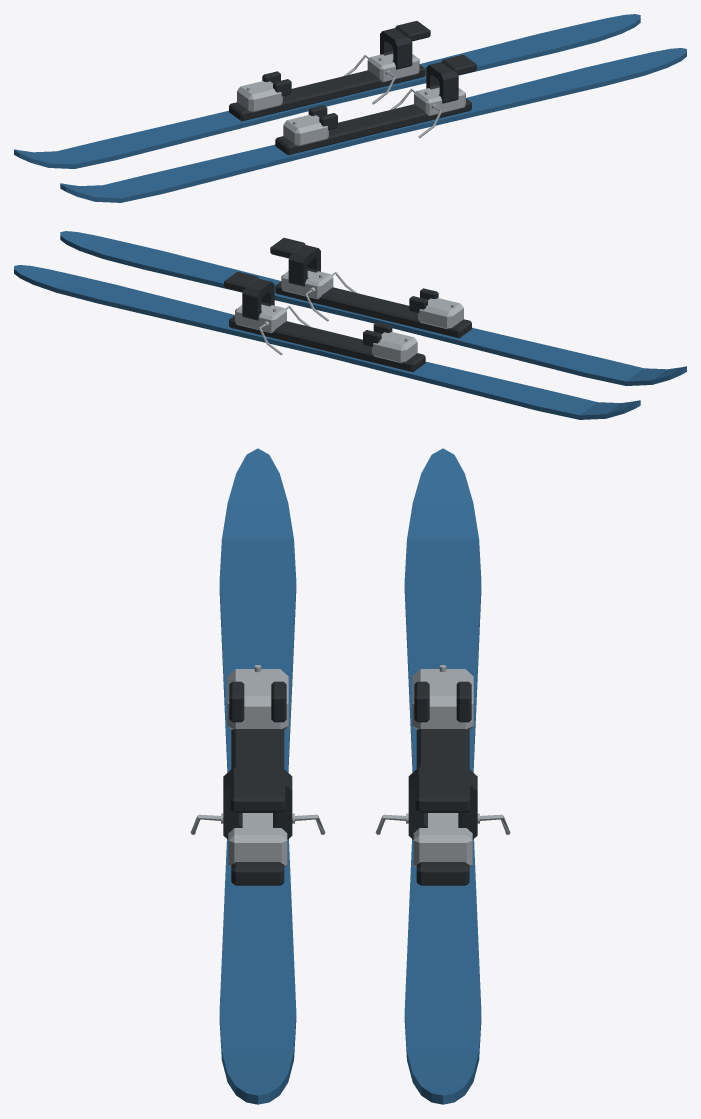
Rendered from full.glb.
The picture shows the model from 3 angles, top to bottom: view 1: azimuth 30°, elevation 25°; view 2: azimuth 150°, elevation 25°; view 3: azimuth 270°, elevation 25°; orthographic projection. The views are drawn at different scales.
Parts seen in each view (by area): view 1: Waisted downhill ski 0, Waisted downhill ski 1, Long mounting plate 1, Long mounting plate 0, Toe housing 0, Toe housing 1, Open heel retainer 0, Open heel retainer 1, Heel pedestal 1, Heel pedestal 0, Heel release pad 1, Heel release pad 0; view 2: Waisted downhill ski 1, Waisted downhill ski 0, Long mounting plate 0, Long mounting plate 1, Toe housing 0, Toe housing 1, Open heel retainer 1, Open heel retainer 0, Heel pedestal 0, Heel pedestal 1, Heel release pad 0, Heel release pad 1; view 3: Waisted downhill ski 0, Waisted downhill ski 1, Long mounting plate 0, Long mounting plate 1, Toe housing 0, Toe housing 1, Heel pedestal 0, Heel pedestal 1, Heel release pad 0, Heel release pad 1, Open heel retainer 0, Open heel retainer 1.
Boxes of the visible parts, x1,y1,x2,y2 form: Waisted downhill ski 0: [60, 48, 686, 202]; Waisted downhill ski 1: [14, 14, 640, 168]; Long mounting plate 1: [229, 64, 425, 121]; Long mounting plate 0: [275, 98, 471, 154]; Toe housing 0: [283, 115, 328, 146]; Toe housing 1: [237, 81, 282, 112]; Open heel retainer 0: [426, 62, 458, 103]; Open heel retainer 1: [380, 28, 412, 69]; Heel pedestal 1: [367, 53, 419, 82]; Heel pedestal 0: [414, 87, 465, 116]; Heel release pad 1: [395, 21, 430, 41]; Heel release pad 0: [441, 54, 476, 75]; Waisted downhill ski 1: [14, 265, 640, 419]; Waisted downhill ski 0: [60, 231, 686, 385]; Long mounting plate 0: [275, 281, 471, 338]; Long mounting plate 1: [229, 315, 425, 371]; Toe housing 0: [418, 298, 463, 329]; Toe housing 1: [372, 332, 417, 363]; Open heel retainer 1: [242, 279, 274, 320]; Open heel retainer 0: [288, 245, 320, 286]; Heel pedestal 0: [281, 270, 333, 299]; Heel pedestal 1: [235, 304, 286, 333]; Heel release pad 0: [270, 238, 305, 258]; Heel release pad 1: [224, 271, 259, 292]; Waisted downhill ski 0: [219, 448, 296, 1104]; Waisted downhill ski 1: [404, 448, 481, 1104]; Long mounting plate 0: [231, 729, 284, 885]; Long mounting plate 1: [416, 729, 469, 885]; Toe housing 0: [227, 669, 288, 729]; Toe housing 1: [412, 669, 473, 729]; Heel pedestal 0: [228, 813, 287, 867]; Heel pedestal 1: [413, 813, 472, 867]; Heel release pad 0: [230, 777, 285, 812]; Heel release pad 1: [415, 777, 470, 812]; Open heel retainer 0: [223, 767, 292, 839]; Open heel retainer 1: [408, 767, 477, 839].
Bounding box in the file's own units: 1.72 × 0.1348 × 0.38.
